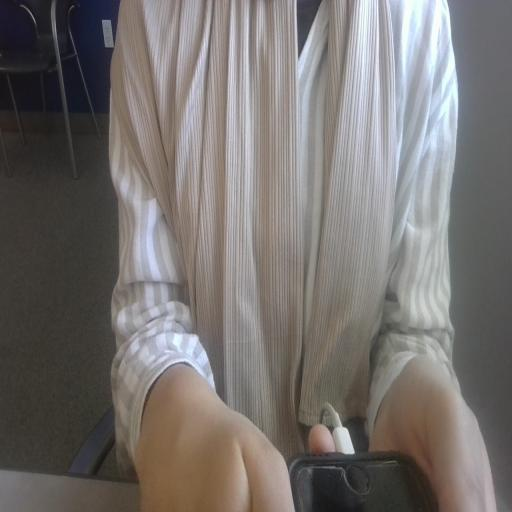phone: (296, 456, 456, 512)
